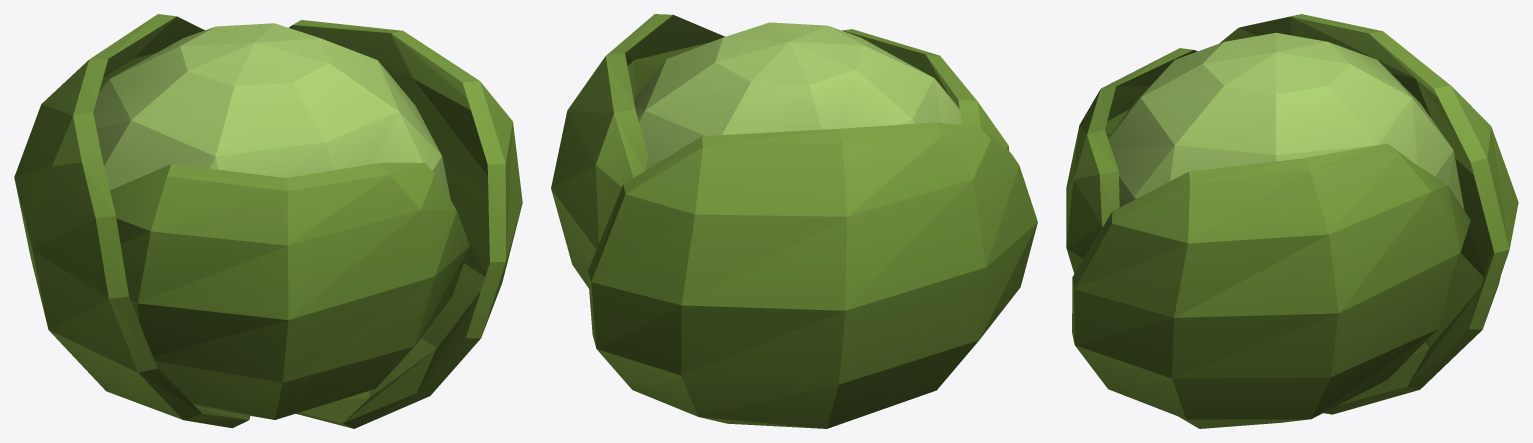
File: crop_cabbage_stage3.glb
3 views of the same model, side by side, from view 1: azimuth 30°, elevation 25°; view 2: azimuth 150°, elevation 25°; view 3: azimuth 270°, elevation 25° (orthographic). The views are drawn at different scales.
Parts seen in each view (by area): view 1: crop_cabbage_stage3; view 2: crop_cabbage_stage3; view 3: crop_cabbage_stage3.
Part boxes in pixels (x1=…): crop_cabbage_stage3: x1=14, y1=14, x2=522, y2=428; crop_cabbage_stage3: x1=551, y1=14, x2=1037, y2=428; crop_cabbage_stage3: x1=1066, y1=14, x2=1518, y2=428.
Bounding box in the file's own units: 0.3914 × 0.32 × 0.3788.
1 material, 1 textured.
